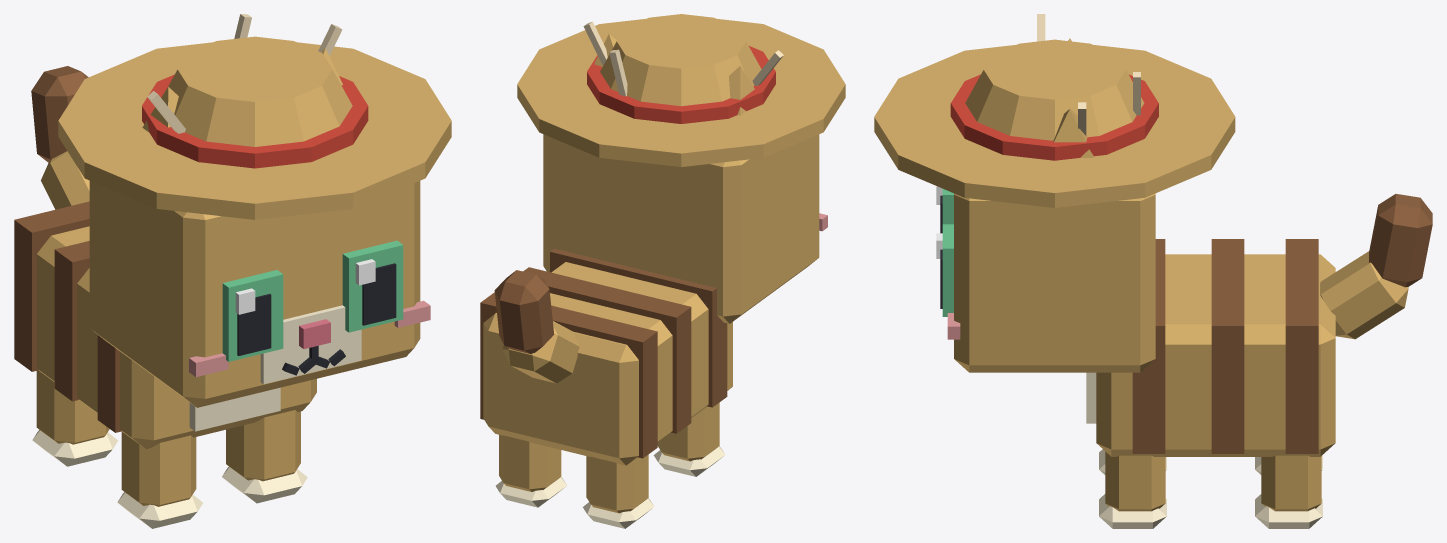
File: CatCafe_Cat_HayBale.glb
The picture shows the model from 3 angles, left to right: view 1: azimuth 30°, elevation 25°; view 2: azimuth 150°, elevation 25°; view 3: azimuth 270°, elevation 25°; orthographic projection. The views are drawn at different scales.
Parts seen in each view (by area): view 1: CatCafe_Cat_HayBale_Prop, CatCafe_Cat_HayBale_Head, CatCafe_Cat_HayBale_Body, CatCafe_Cat_HayBale_LegF2, CatCafe_Cat_HayBale_LegF1, CatCafe_Cat_HayBale_Tail, CatCafe_Cat_HayBale_Eye2, CatCafe_Cat_HayBale_Eye1, CatCafe_Cat_HayBale_LegB2; view 2: CatCafe_Cat_HayBale_Prop, CatCafe_Cat_HayBale_Body, CatCafe_Cat_HayBale_Head, CatCafe_Cat_HayBale_Tail, CatCafe_Cat_HayBale_LegB2, CatCafe_Cat_HayBale_LegB1, CatCafe_Cat_HayBale_LegF2, CatCafe_Cat_HayBale_EarR; view 3: CatCafe_Cat_HayBale_Prop, CatCafe_Cat_HayBale_Body, CatCafe_Cat_HayBale_Head, CatCafe_Cat_HayBale_Tail, CatCafe_Cat_HayBale_LegF1, CatCafe_Cat_HayBale_LegB1, CatCafe_Cat_HayBale_Eye1, CatCafe_Cat_HayBale_EarL.
Part boxes in pixels (box(x1,y1,x2,y2)): CatCafe_Cat_HayBale_Prop: box(58, 14, 451, 219); CatCafe_Cat_HayBale_Head: box(89, 181, 430, 407); CatCafe_Cat_HayBale_Body: box(14, 201, 316, 448); CatCafe_Cat_HayBale_LegF2: box(117, 431, 202, 528); CatCafe_Cat_HayBale_LegF1: box(222, 410, 307, 503); CatCafe_Cat_HayBale_Tail: box(31, 66, 89, 209); CatCafe_Cat_HayBale_Eye2: box(222, 270, 283, 361); CatCafe_Cat_HayBale_Eye1: box(342, 240, 403, 332); CatCafe_Cat_HayBale_LegB2: box(32, 370, 118, 466); CatCafe_Cat_HayBale_Prop: box(517, 14, 845, 166); CatCafe_Cat_HayBale_Body: box(480, 248, 732, 465); CatCafe_Cat_HayBale_Head: box(543, 134, 827, 323); CatCafe_Cat_HayBale_Tail: box(494, 270, 579, 383); CatCafe_Cat_HayBale_LegB2: box(583, 454, 654, 528); CatCafe_Cat_HayBale_LegB1: box(496, 435, 566, 507); CatCafe_Cat_HayBale_LegF2: box(653, 402, 725, 476); CatCafe_Cat_HayBale_EarR: box(729, 66, 754, 115); CatCafe_Cat_HayBale_Prop: box(874, 14, 1235, 207); CatCafe_Cat_HayBale_Body: box(1086, 239, 1335, 456); CatCafe_Cat_HayBale_Head: box(947, 193, 1155, 372); CatCafe_Cat_HayBale_Tail: box(1320, 194, 1432, 339); CatCafe_Cat_HayBale_LegF1: box(1099, 451, 1166, 528); CatCafe_Cat_HayBale_LegB1: box(1255, 455, 1322, 528); CatCafe_Cat_HayBale_Eye1: box(936, 224, 953, 316); CatCafe_Cat_HayBale_EarL: box(1053, 109, 1093, 157).
Bounding box in the file's own units: 1.43 × 1.93 × 2.22.
Materials: 1 (1 with a texture image).
